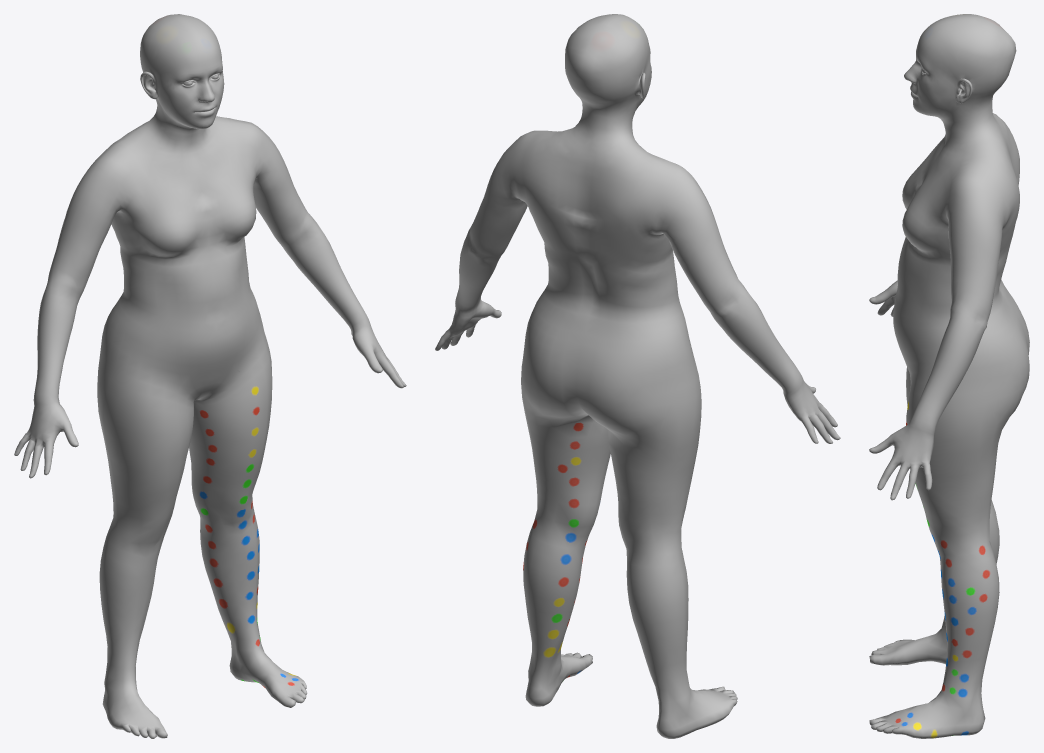
File: 1135039-supine-all.gltf
3 views of the same model, side by side, from view 1: azimuth 30°, elevation 25°; view 2: azimuth 150°, elevation 25°; view 3: azimuth 270°, elevation 25° (orthographic). The views are drawn at different scales.
Visible parts, largest first — view 1: Female 60in 130lbs; view 2: Female 60in 130lbs; view 3: Female 60in 130lbs.
Part boxes in pixels (x1=…): Female 60in 130lbs: x1=14, y1=14, x2=406, y2=738; Female 60in 130lbs: x1=435, y1=14, x2=840, y2=738; Female 60in 130lbs: x1=869, y1=14, x2=1029, y2=738.
Size of the model in its own units: 2.68 by 4.58 by 0.9768.
Materials: 1 (1 with a texture image).
